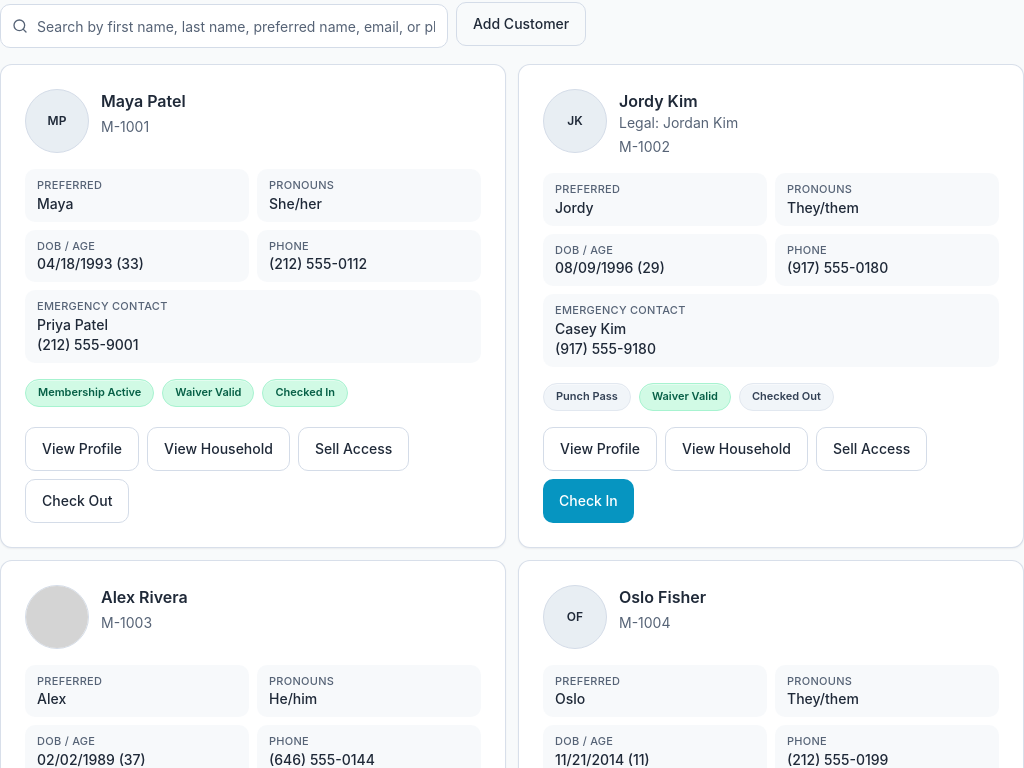
CustomerList › shows empty state when no customer matches
This screenshot has width=1024, height=768.
Type "no-match-value" into the field named "Search customers".
click(224, 26); type("no-match-value")  # box [0,4,448,48]
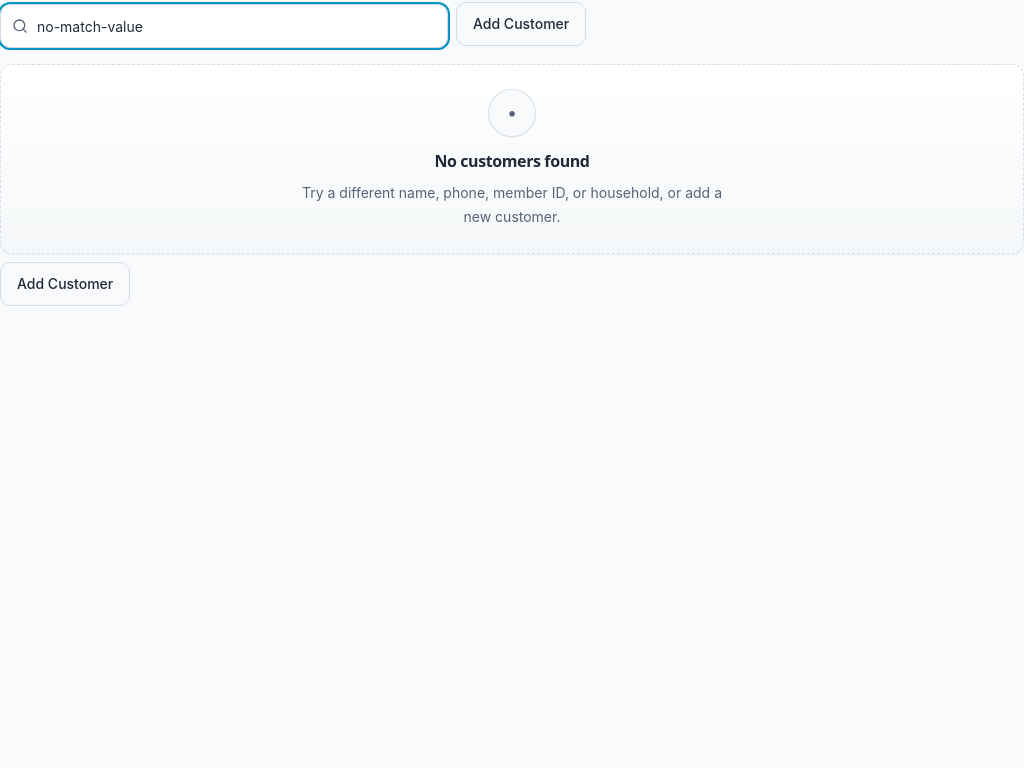
Expected: the 1st button "Add Customer" is shown, [456,2,586,46]
Expected: the heading "No customers found" is shown, [434,149,590,173]
